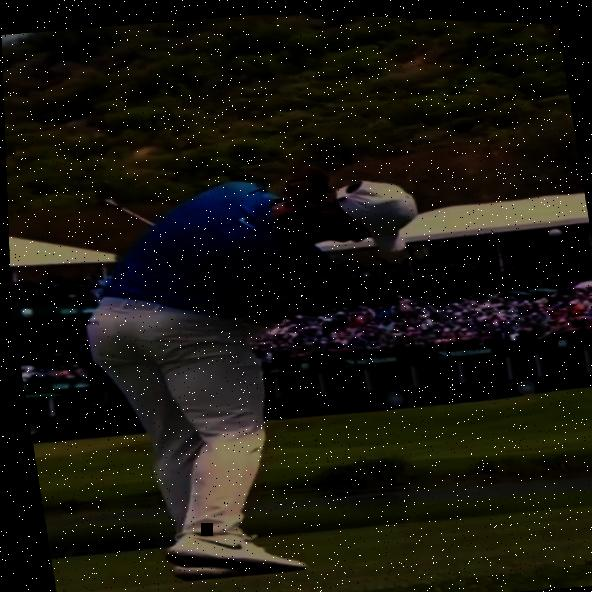ClubHead: (95, 174, 114, 202)
